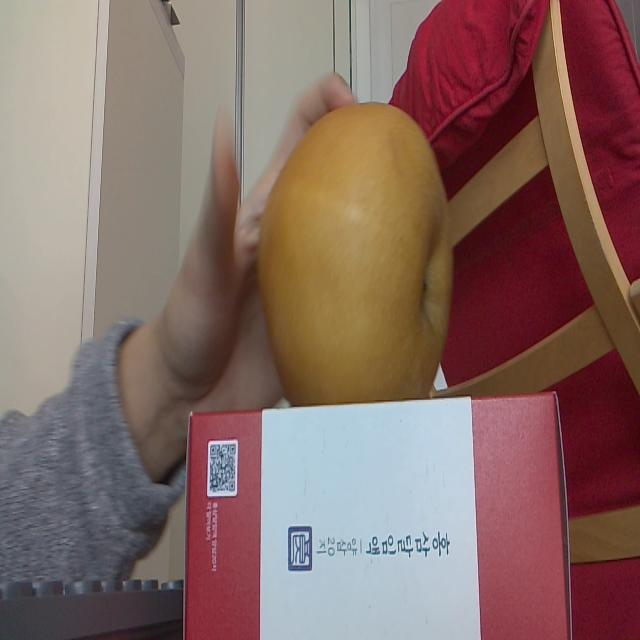pear: (261, 102, 453, 404)
